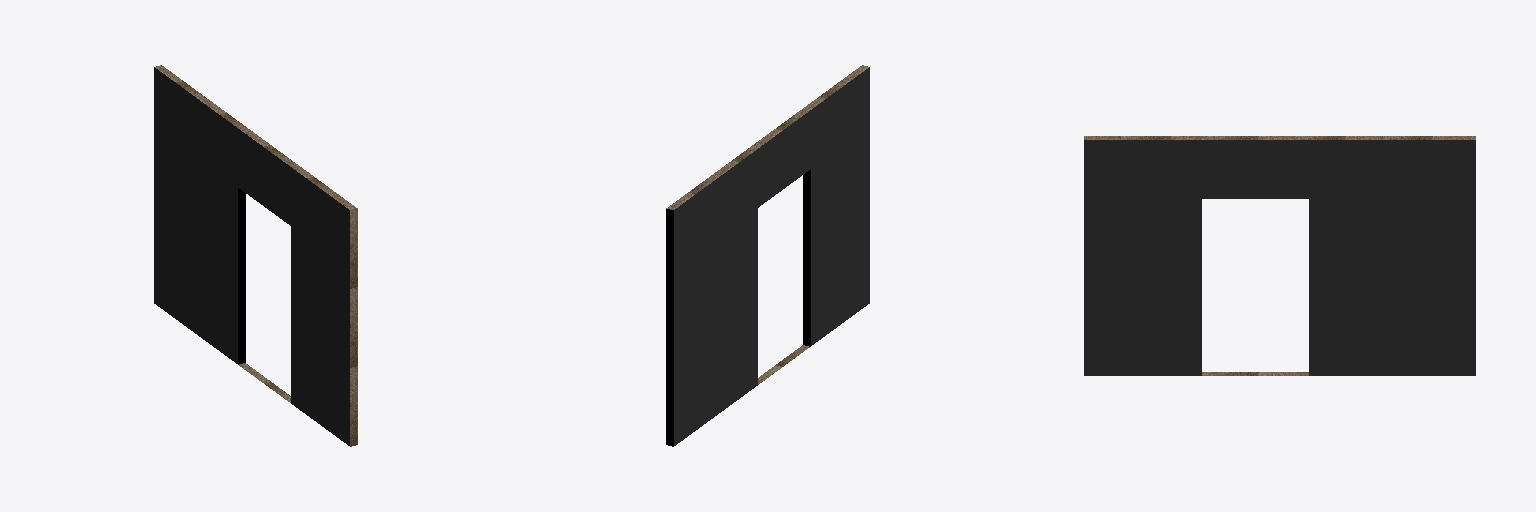
3 renders of one model, left to right at view 1: azimuth 30°, elevation 25°; view 2: azimuth 150°, elevation 25°; view 3: azimuth 270°, elevation 25°, orthographic.
Parts seen in each view (by area): view 1: Separator_door_elevator; view 2: Separator_door_elevator; view 3: Separator_door_elevator.
Boxes of the visible parts, box(x1,y1,x2,y2) form: Separator_door_elevator: box(154, 65, 357, 446); Separator_door_elevator: box(666, 65, 869, 446); Separator_door_elevator: box(1084, 136, 1475, 375).
Bounding box in the file's own units: 0.1 × 3 × 4.5.
Materials: 3 (1 with a texture image).